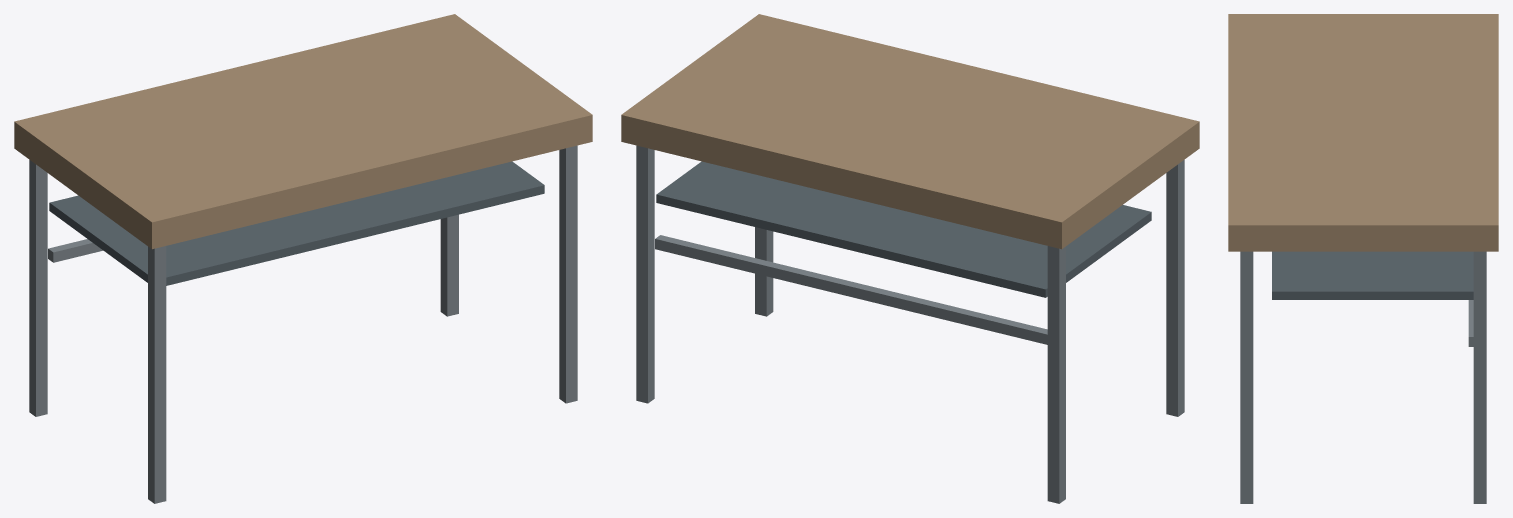
File: ART-002.glb
3 renders of one model, left to right at view 1: azimuth 30°, elevation 25°; view 2: azimuth 150°, elevation 25°; view 3: azimuth 270°, elevation 25°, orthographic.
Visible parts, largest first — view 1: 000_Wood_desk_top, 006_Shelf_beneath_top, 001_Steel_frame, 003_Steel_frame, 002_Steel_frame, 004_Steel_frame, 005_Rear_brace; view 2: 000_Wood_desk_top, 006_Shelf_beneath_top, 005_Rear_brace, 002_Steel_frame, 004_Steel_frame, 001_Steel_frame, 003_Steel_frame; view 3: 000_Wood_desk_top, 006_Shelf_beneath_top, 003_Steel_frame, 004_Steel_frame.
Part boxes in pixels (x1,y1,x2,y2): 000_Wood_desk_top: (14, 14, 592, 249); 006_Shelf_beneath_top: (49, 161, 544, 285); 001_Steel_frame: (148, 246, 166, 503); 003_Steel_frame: (559, 145, 577, 403); 002_Steel_frame: (29, 160, 47, 416); 004_Steel_frame: (440, 214, 458, 316); 005_Rear_brace: (48, 239, 102, 262); 000_Wood_desk_top: (621, 14, 1199, 249); 006_Shelf_beneath_top: (656, 161, 1151, 297); 005_Rear_brace: (655, 235, 1047, 344); 002_Steel_frame: (1047, 246, 1065, 503); 004_Steel_frame: (636, 145, 654, 403); 001_Steel_frame: (1166, 160, 1184, 416); 003_Steel_frame: (755, 227, 773, 316); 000_Wood_desk_top: (1228, 14, 1498, 251); 006_Shelf_beneath_top: (1272, 251, 1473, 299); 003_Steel_frame: (1240, 251, 1253, 503); 004_Steel_frame: (1473, 251, 1486, 503).
Size of the model in its own units: 1.2 by 0.75 by 0.65.
